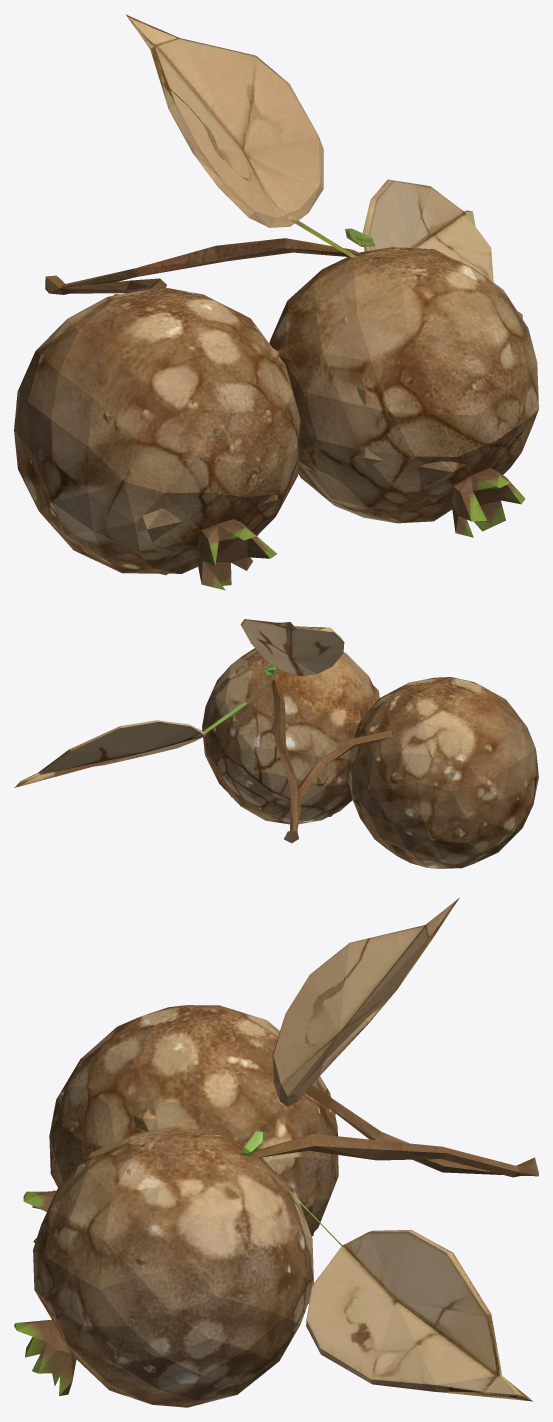
File: berry.glb
The picture shows the model from 3 angles, top to bottom: view 1: azimuth 30°, elevation 25°; view 2: azimuth 150°, elevation 25°; view 3: azimuth 270°, elevation 25°; orthographic projection. The views are drawn at different scales.
Bounding box in the file's own units: 0.0438 × 0.03 × 0.033.
Materials: 1 (1 with a texture image).
